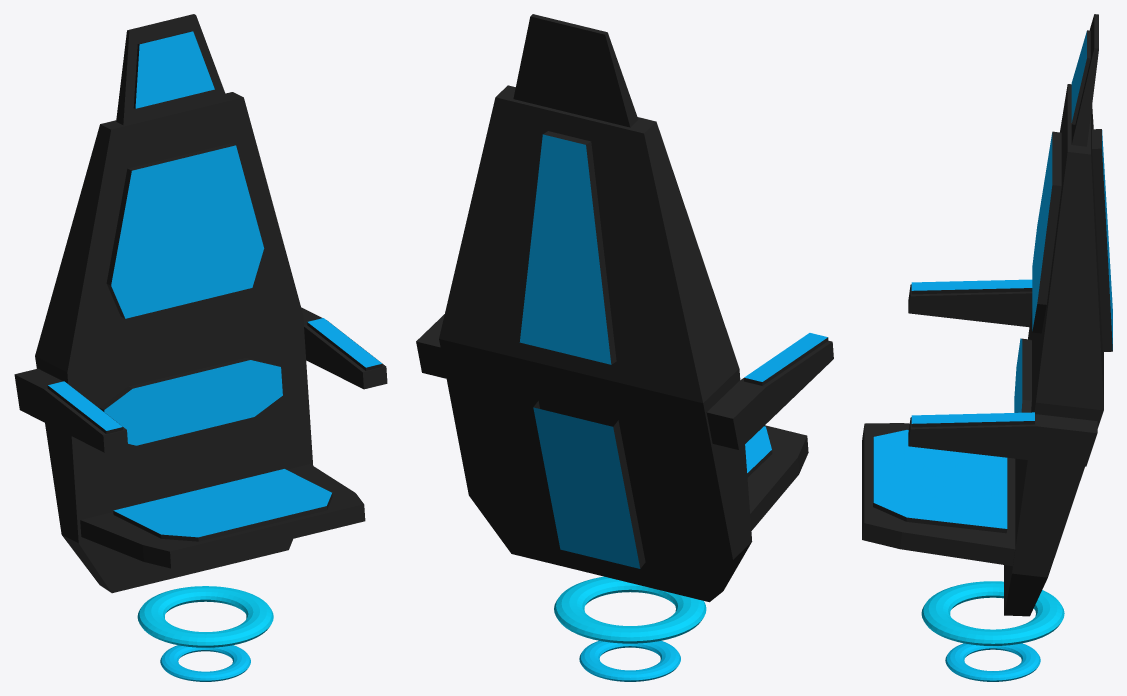
Rendered from chair.gltf.
3 views of the same model, side by side, from view 1: azimuth 30°, elevation 25°; view 2: azimuth 150°, elevation 25°; view 3: azimuth 270°, elevation 25° (orthographic). The views are drawn at different scales.
Parts seen in each view (by area): view 1: Cube, Torus.001, Torus; view 2: Cube, Torus.001, Torus; view 3: Cube, Torus.001, Torus.
Boxes of the visible parts, box(x1,y1,x2,y2) form: Cube: box(14, 14, 387, 593); Torus.001: box(137, 586, 273, 647); Torus: box(160, 645, 250, 681); Cube: box(416, 14, 833, 602); Torus.001: box(554, 576, 706, 643); Torus: box(579, 640, 680, 681); Cube: box(862, 14, 1112, 616); Torus.001: box(921, 581, 1064, 645); Torus: box(945, 643, 1040, 681).
Size of the model in its own units: 1.8 by 3.68 by 1.32.
